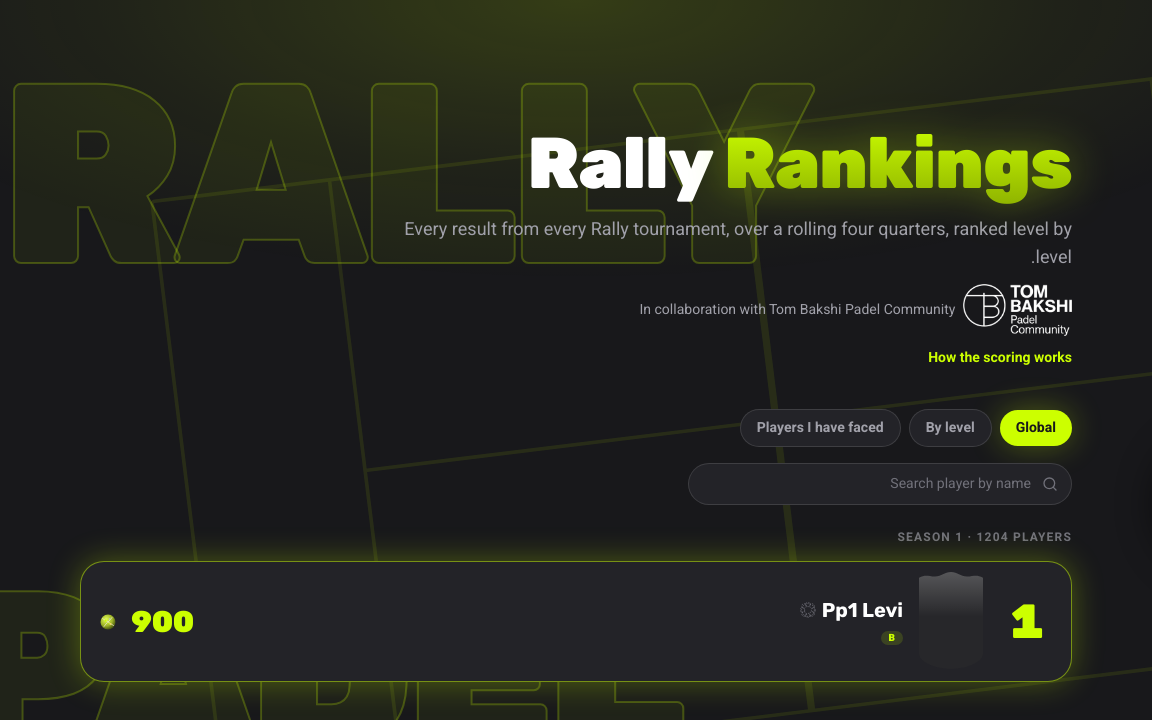
Test: RankingPage featured column › opens the player modal in place when a featured row is picked
Click the button "1 Pp1 Levi B 900": (1027, 621) x1=127 y1=562 x2=1071 y2=681
(page scrolled)
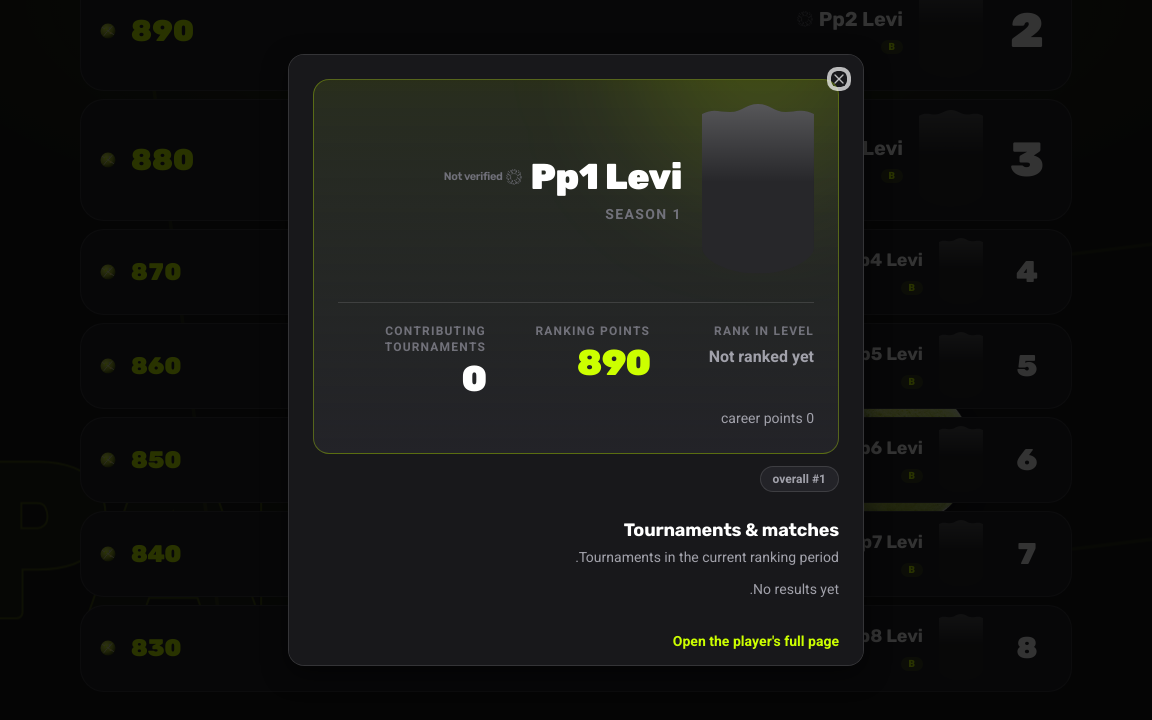
Expected: the header with test id "player-season-header" is shown, x1=313 y1=79 x2=839 y2=454
Expected: the text "Pp1 Levi" is shown, x1=530 y1=157 x2=682 y2=197
